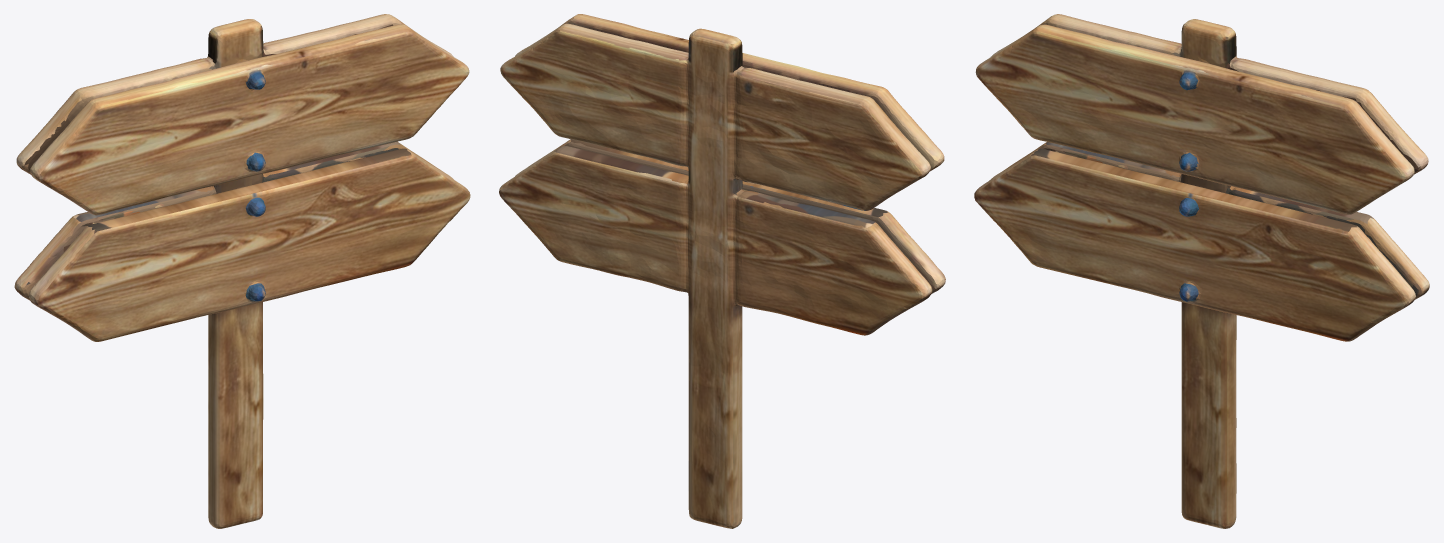
The model's file is mdl_signpost_001.glb.
3 views of the same model, side by side, from view 1: azimuth 30°, elevation 25°; view 2: azimuth 150°, elevation 25°; view 3: azimuth 330°, elevation 25° (orthographic). The views are drawn at different scales.
Visible parts, largest first — view 1: tmpq8h6sgxz.ply; view 2: tmpq8h6sgxz.ply; view 3: tmpq8h6sgxz.ply.
Boxes of the visible parts, left/top/right/bottom form: tmpq8h6sgxz.ply: left=14, top=14, right=470, bottom=528; tmpq8h6sgxz.ply: left=499, top=14, right=945, bottom=528; tmpq8h6sgxz.ply: left=974, top=14, right=1429, bottom=528.
Bounding box in the file's own units: 0.9082 × 0.9906 × 0.1139.
Materials: 1 (1 with a texture image).
